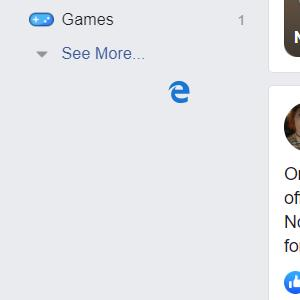edge: (168, 81, 189, 103)
